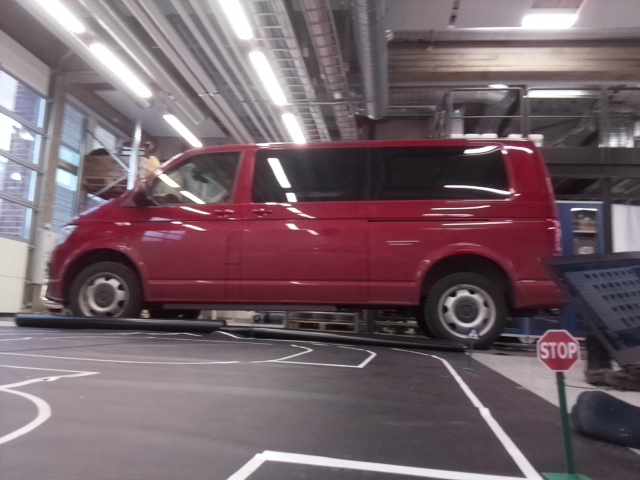Crosswalk: (468, 327, 478, 339)
Stop: (537, 330, 579, 372)
